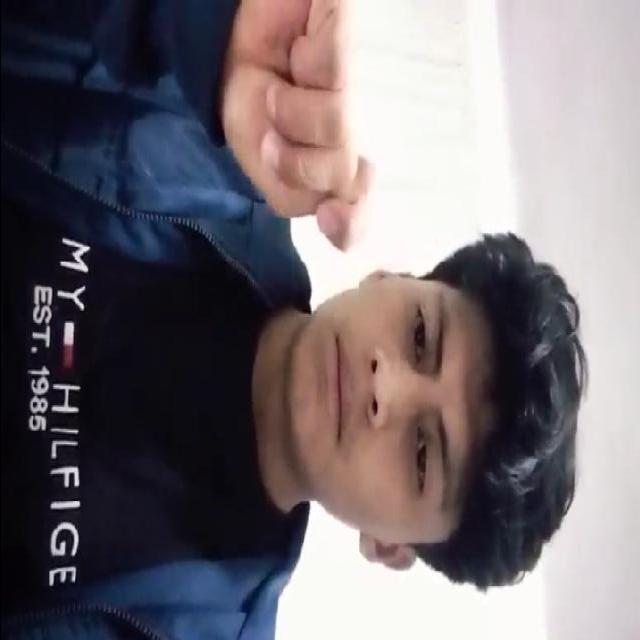T: (213, 0, 388, 254)
